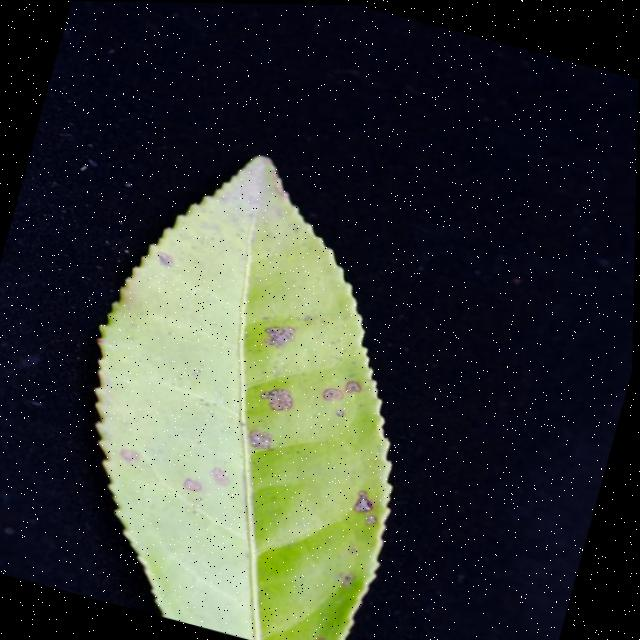Tea red rust: (61, 197, 451, 622)
